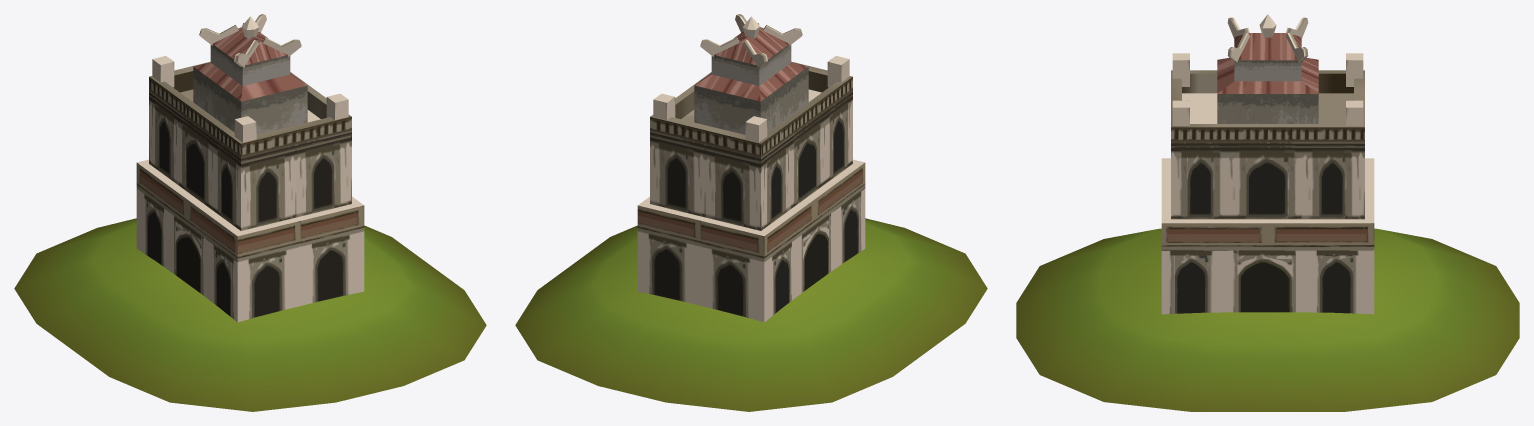
File: SM_TurtleTower_01.fbx
The picture shows the model from 3 angles, left to right: view 1: azimuth 30°, elevation 25°; view 2: azimuth 150°, elevation 25°; view 3: azimuth 270°, elevation 25°; orthographic projection. The views are drawn at different scales.
Visible parts, largest first — view 1: SM_TurtleTower_01; view 2: SM_TurtleTower_01; view 3: SM_TurtleTower_01.
Boxes of the visible parts, x1,y1,x2,y2 form: SM_TurtleTower_01: (14,14,486,411); SM_TurtleTower_01: (515,14,987,411); SM_TurtleTower_01: (1016,14,1519,411).
Bounding box in the file's own units: 11.53 × 9.01 × 13.42.
